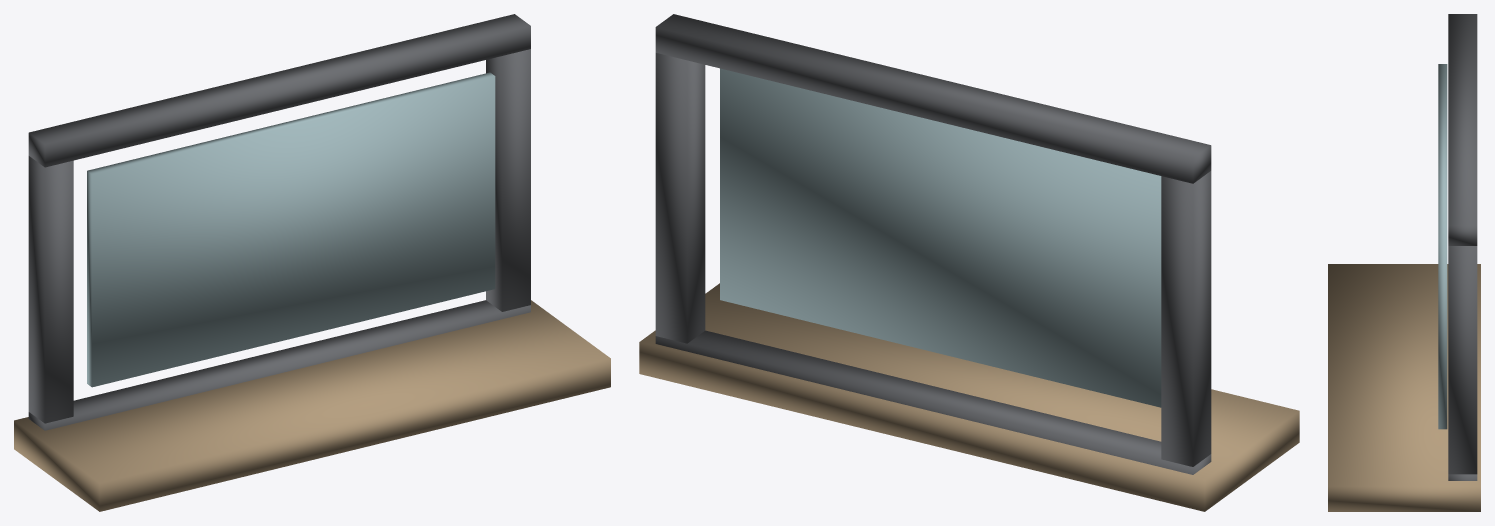
File: service_window__squat.glb
3 views of the same model, side by side, from view 1: azimuth 30°, elevation 25°; view 2: azimuth 150°, elevation 25°; view 3: azimuth 270°, elevation 25° (orthographic). The views are drawn at different scales.
Parts seen in each view (by area): view 1: world; view 2: world; view 3: world.
Boxes of the visible parts, box(x1,y1,x2,y2) form: world: box(14, 14, 610, 511); world: box(639, 14, 1299, 511); world: box(1328, 14, 1480, 511).
Size of the model in its own units: 1.56 by 0.9198 by 0.4536.
